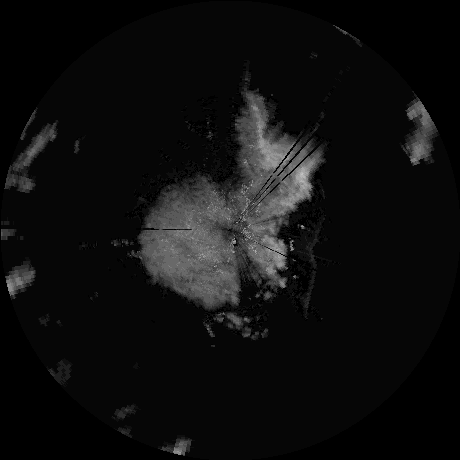frontgust: (302, 245, 317, 309)
